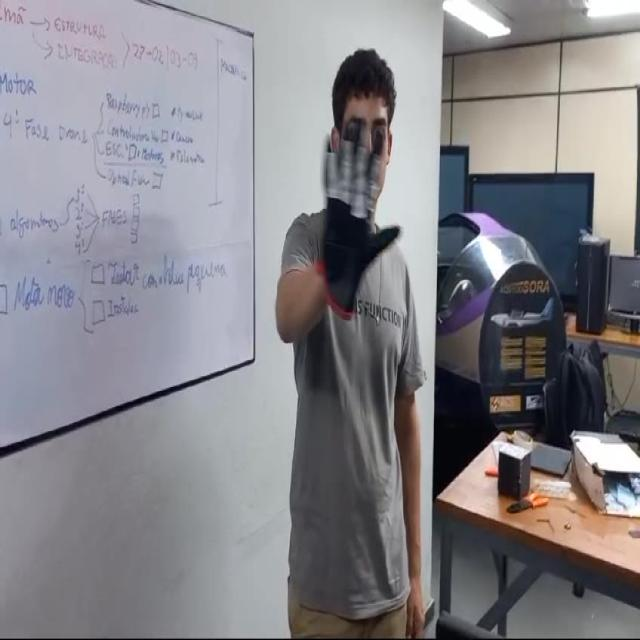Gloves: (315, 126, 405, 317)
